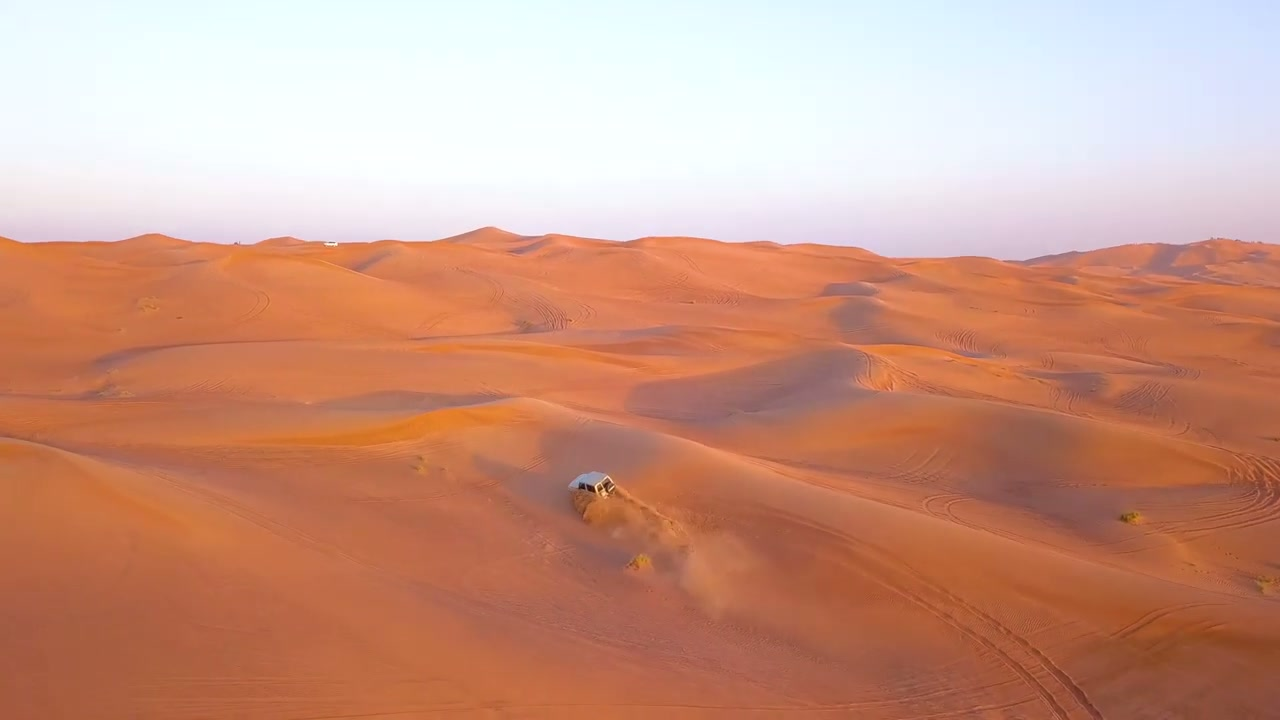vehicle_track: (744, 509, 1103, 719)
